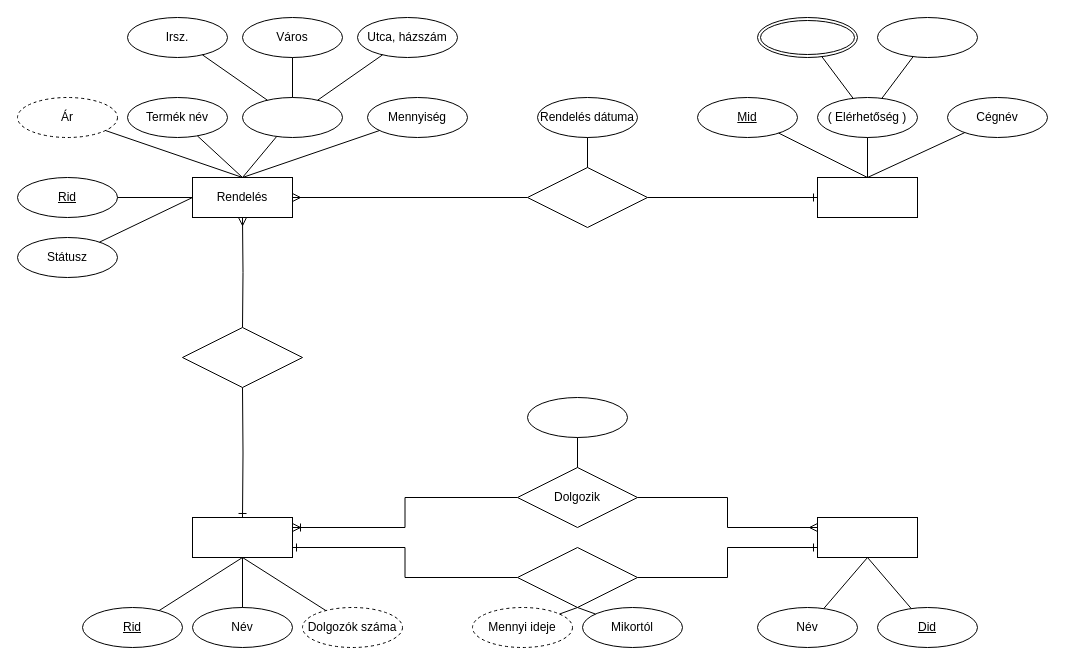
Some shapes in this 1065 by 665 pixel diagram are drawn without their labels. The centre of each missing label's shape, as x and y in pixels:
"( Szállítási hely )" belongs at (292,117).
"Beosztás" belongs at (577,417).
"Dolgozó" belongs at (867,537).
"Email" belongs at (927,37).
"Megrendelő" belongs at (867,197).
"Rendel" belongs at (587,197).
"Részleg" belongs at (242,537).
"Tel. szám" belongs at (807,37).
"Vezeti" belongs at (577,577).
"Érkezik" belongs at (242,357).
